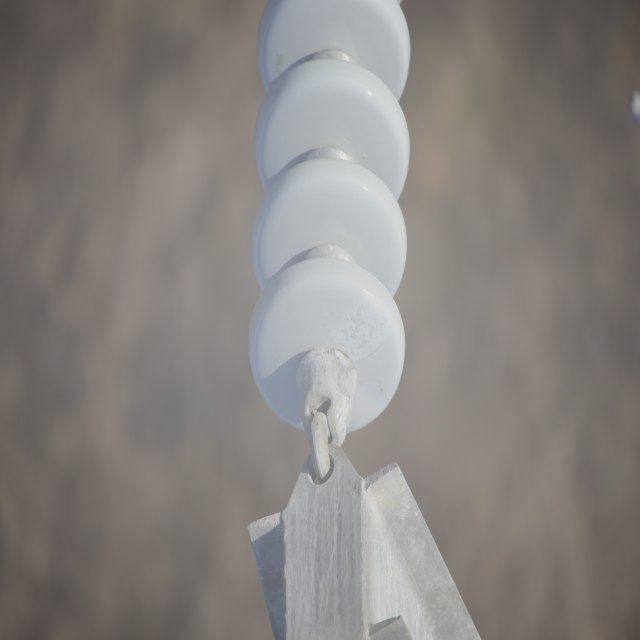insulator: (247, 0, 411, 440)
